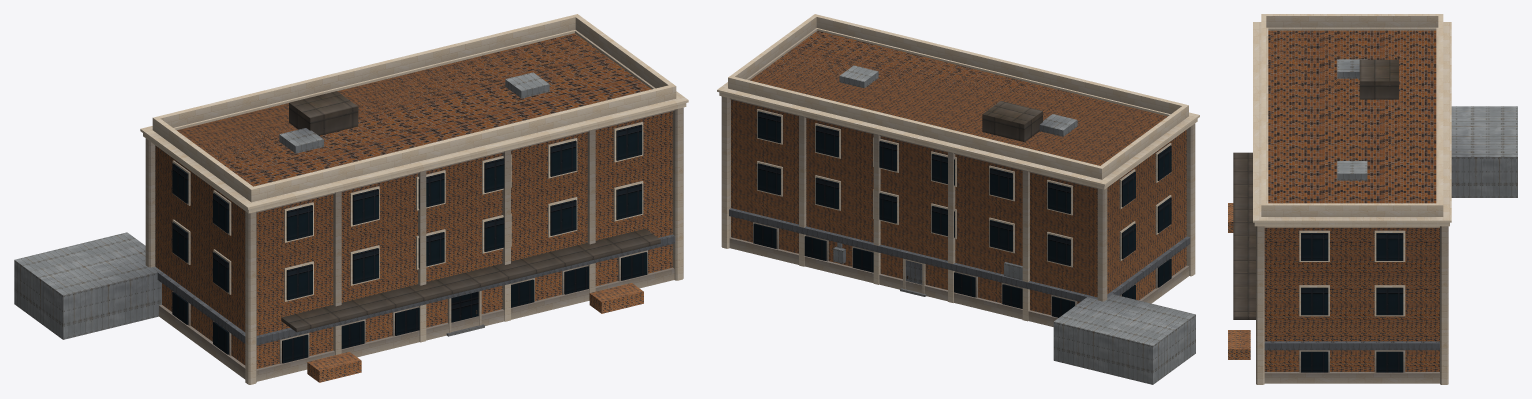
The model's file is rose-garden-apartments_lod0.gltf.
3 renders of one model, left to right at view 1: azimuth 30°, elevation 25°; view 2: azimuth 150°, elevation 25°; view 3: azimuth 270°, elevation 25°, orthographic. The views are drawn at different scales.
Parts seen in each view (by area): view 1: rose-garden-apartments_main, rose-garden-apartments__v4_stone_detail, rose-garden-apartments_fen_07-glass-curtain-blue_1_t, rose-garden-apartments__parapet, rose-garden-apartments__playground, rose-garden-apartments__v4_metal_detail, rose-garden-apartments_fen_04-limestone_0, rose-garden-apartments__trim_band, rose-garden-apartments__planter_b, rose-garden-apartments__planter_a, rose-garden-apartments__vent_b, rose-garden-apartments__vent_a; view 2: rose-garden-apartments_main, rose-garden-apartments__v4_stone_detail, rose-garden-apartments__parapet, rose-garden-apartments_fen_07-glass-curtain-blue_1_t, rose-garden-apartments__playground, rose-garden-apartments__trim_band, rose-garden-apartments_fen_04-limestone_0, rose-garden-apartments__v4_metal_detail, rose-garden-apartments_fen_14-steel-panel_4, rose-garden-apartments__vent_b, rose-garden-apartments__vent_a; view 3: rose-garden-apartments_main, rose-garden-apartments__v4_stone_detail, rose-garden-apartments__playground, rose-garden-apartments__v4_metal_detail, rose-garden-apartments__parapet, rose-garden-apartments_fen_07-glass-curtain-blue_1_t, rose-garden-apartments__trim_band, rose-garden-apartments_fen_04-limestone_0, rose-garden-apartments__planter_b, rose-garden-apartments__vent_b, rose-garden-apartments__vent_a.
Part boxes in pixels (x1,y1,x2,y2): rose-garden-apartments_main: [155, 33, 672, 368]; rose-garden-apartments__v4_stone_detail: [140, 14, 688, 384]; rose-garden-apartments_fen_07-glass-curtain-blue_1_t: [172, 124, 647, 363]; rose-garden-apartments__parapet: [177, 33, 630, 185]; rose-garden-apartments__playground: [14, 232, 161, 339]; rose-garden-apartments__v4_metal_detail: [281, 91, 660, 332]; rose-garden-apartments_fen_04-limestone_0: [172, 122, 647, 363]; rose-garden-apartments__trim_band: [157, 234, 675, 345]; rose-garden-apartments__planter_b: [589, 283, 643, 313]; rose-garden-apartments__planter_a: [307, 352, 361, 382]; rose-garden-apartments__vent_b: [505, 72, 549, 98]; rose-garden-apartments__vent_a: [279, 128, 323, 153]; rose-garden-apartments_main: [731, 31, 1186, 315]; rose-garden-apartments__v4_stone_detail: [717, 14, 1199, 326]; rose-garden-apartments__parapet: [750, 31, 1167, 165]; rose-garden-apartments_fen_07-glass-curtain-blue_1_t: [753, 111, 1171, 317]; rose-garden-apartments__playground: [1053, 294, 1195, 384]; rose-garden-apartments__trim_band: [729, 208, 1190, 301]; rose-garden-apartments_fen_04-limestone_0: [753, 109, 1171, 315]; rose-garden-apartments__v4_metal_detail: [982, 101, 1042, 141]; rose-garden-apartments_fen_14-steel-panel_4: [833, 242, 1022, 284]; rose-garden-apartments__vent_b: [839, 65, 878, 88]; rose-garden-apartments__vent_a: [1039, 114, 1077, 136]; rose-garden-apartments_main: [1264, 30, 1439, 371]; rose-garden-apartments__v4_stone_detail: [1253, 14, 1451, 384]; rose-garden-apartments__playground: [1451, 106, 1517, 197]; rose-garden-apartments__v4_metal_detail: [1233, 59, 1398, 319]; rose-garden-apartments__parapet: [1268, 30, 1436, 202]; rose-garden-apartments_fen_07-glass-curtain-blue_1_t: [1301, 233, 1403, 372]; rose-garden-apartments__trim_band: [1264, 341, 1439, 350]; rose-garden-apartments_fen_04-limestone_0: [1299, 230, 1405, 372]; rose-garden-apartments__planter_b: [1228, 330, 1250, 359]; rose-garden-apartments__vent_b: [1337, 161, 1367, 180]; rose-garden-apartments__vent_a: [1337, 59, 1366, 78].
Size of the model in its own units: 37.61 by 13.35 by 19.25.
